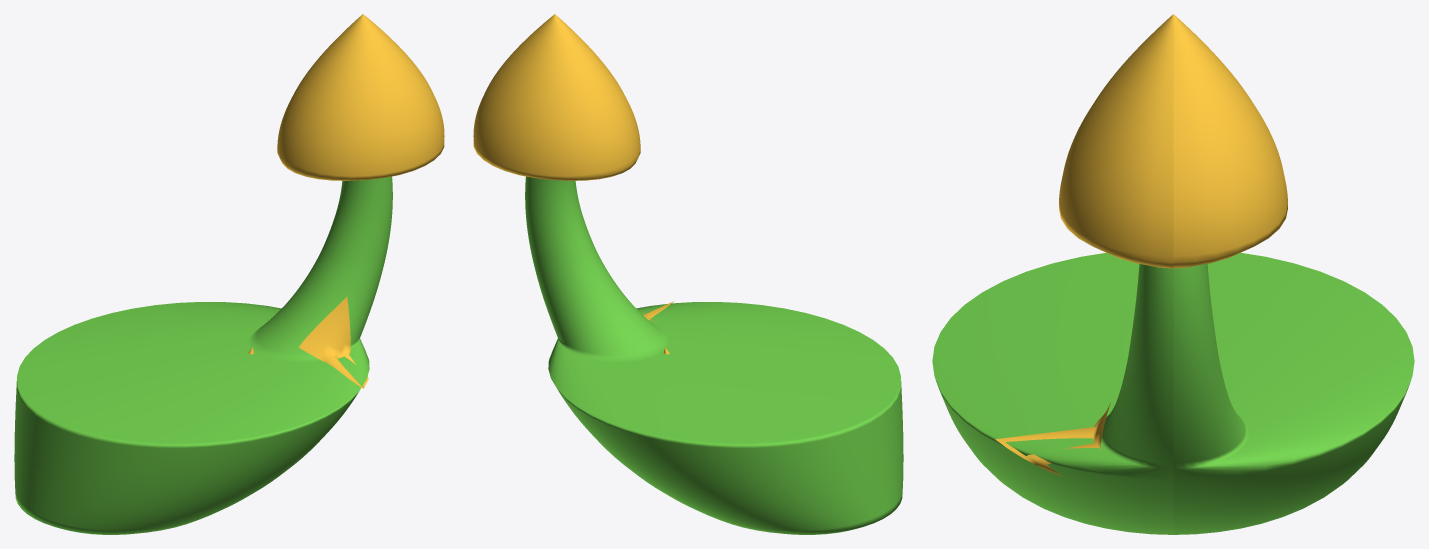
The model's file is tail-lightning.glb.
3 views of the same model, side by side, from view 1: azimuth 30°, elevation 25°; view 2: azimuth 150°, elevation 25°; view 3: azimuth 270°, elevation 25° (orthographic). The views are drawn at different scales.
Visible parts, largest first — view 1: tail_0_solid, tail_1_solid, tail_3_paint; view 2: tail_0_solid, tail_1_solid; view 3: tail_0_solid, tail_1_solid, tail_3_paint.
Boxes of the visible parts, x1,y1,x2,y2 form: tail_0_solid: (14, 176, 392, 534); tail_1_solid: (277, 14, 444, 180); tail_3_paint: (298, 296, 368, 388); tail_0_solid: (525, 176, 903, 534); tail_1_solid: (473, 14, 640, 180); tail_0_solid: (932, 252, 1414, 534); tail_1_solid: (1059, 14, 1287, 268); tail_3_paint: (995, 403, 1110, 476).
Size of the model in its own units: 0.6803 by 0.6929 by 0.4701.
